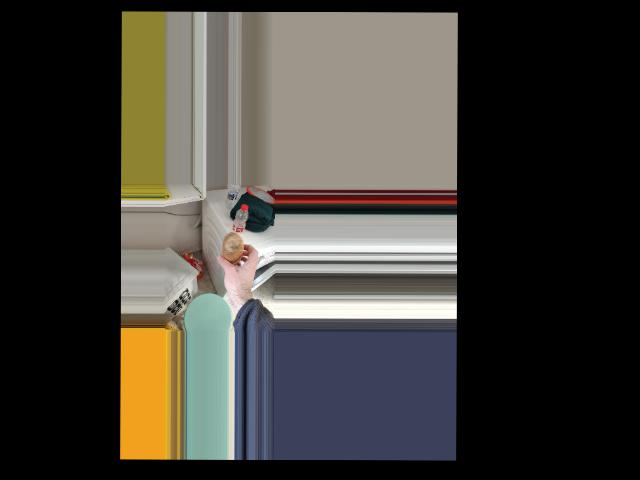sweet_potato: (219, 233, 248, 269)
